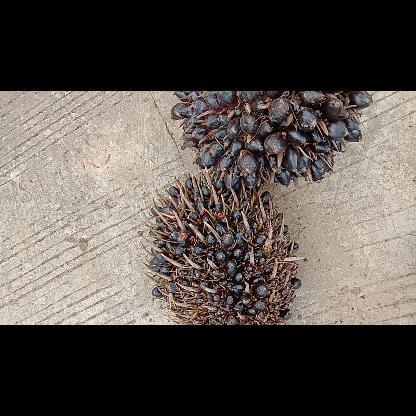TBS mentah: (146, 170, 306, 324), (167, 91, 375, 190)
